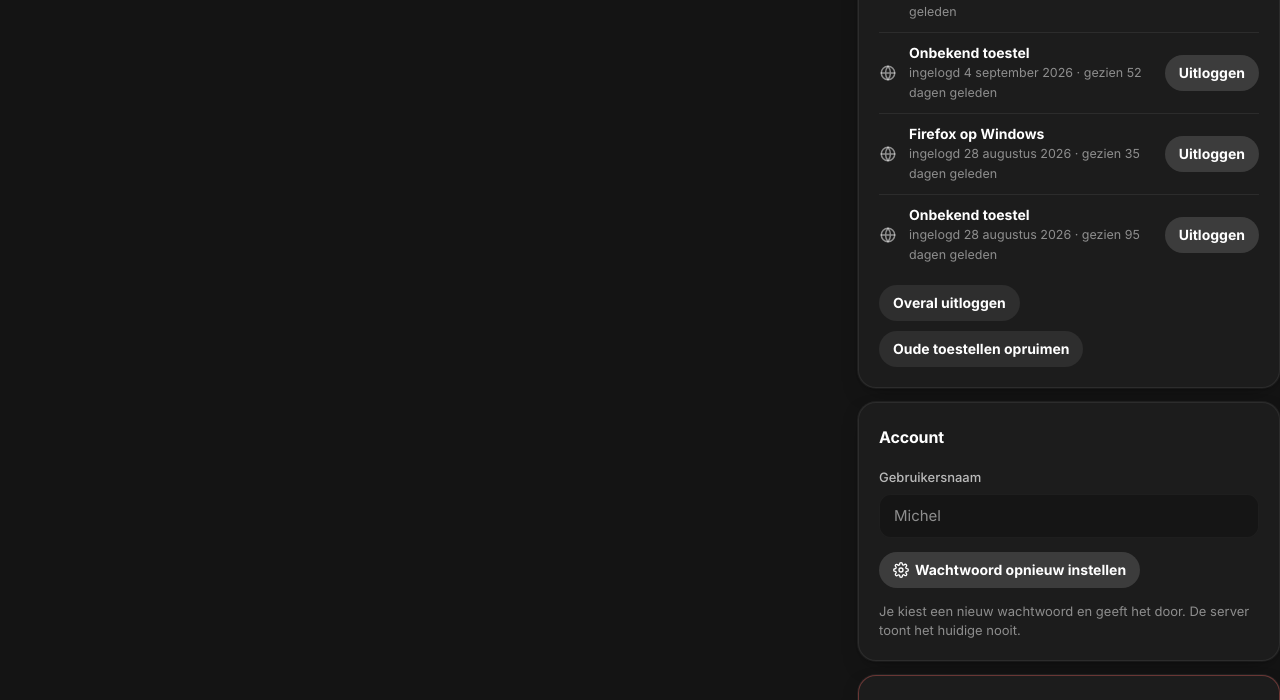
Test case: oude toestellen opruimen, scherm 27 › noemt aantal en toestellen, en sluit het eigen toestel, recente toestellen en API-tokens uit
(page scrolled)
Click the button "Oude toestellen opruimen".
click(981, 349)  # box [879,331,1084,367]
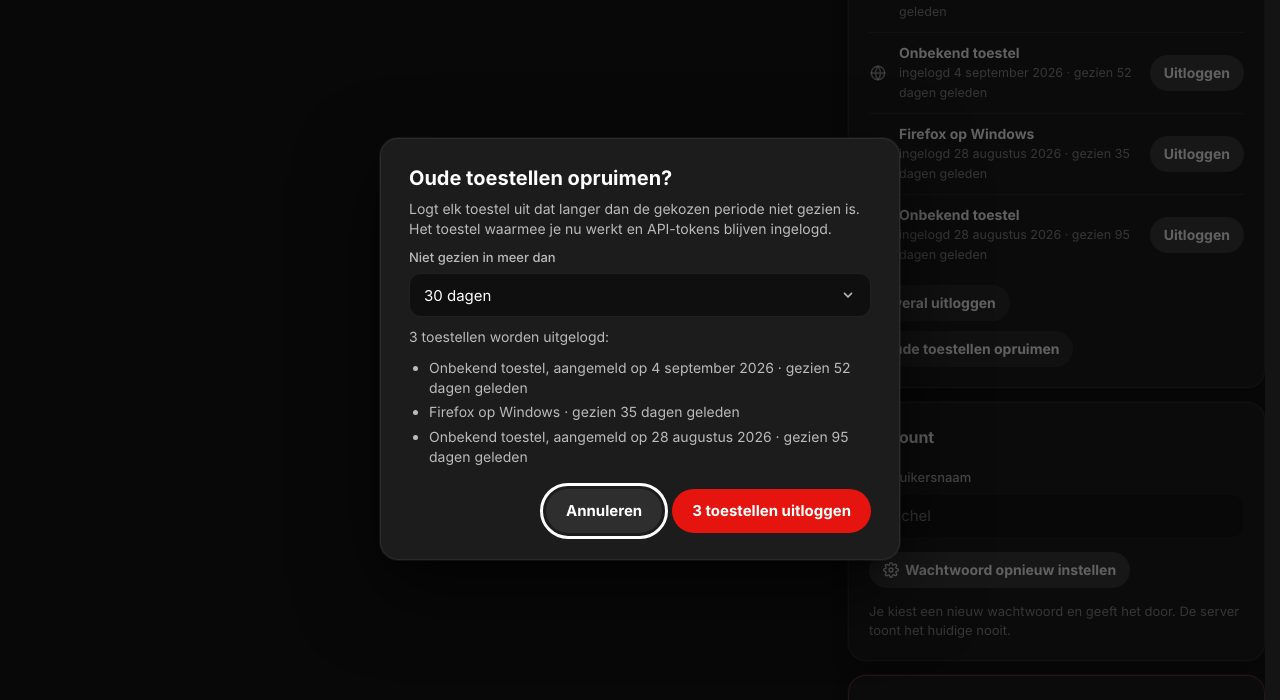
Now the text "3 toestellen worden uitgelogd:" is shown, box [409,328,609,345]
